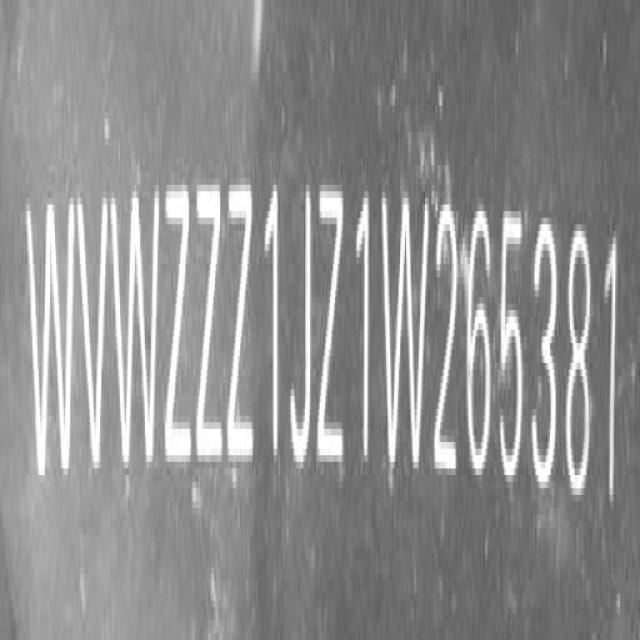1: (352, 176, 374, 472), (266, 183, 284, 469), (604, 229, 622, 506)
2: (432, 196, 462, 489)
3: (532, 212, 560, 499)
5: (499, 200, 528, 490)
6: (465, 197, 495, 489)
8: (566, 224, 595, 505)
J: (287, 188, 314, 472)
V: (76, 196, 108, 477)
W: (382, 177, 431, 487), (27, 187, 73, 499), (111, 193, 162, 467)
Z: (315, 170, 346, 488), (195, 172, 226, 488), (162, 170, 193, 486), (226, 173, 257, 487)
